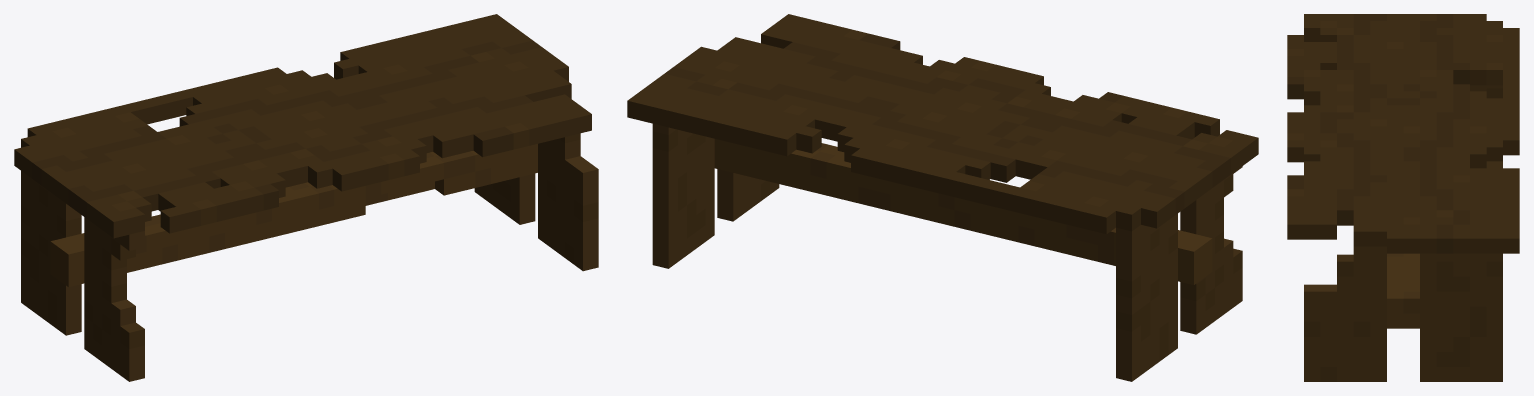
File: SkeletonLair-2.obj
3 views of the same model, side by side, from view 1: azimuth 30°, elevation 25°; view 2: azimuth 150°, elevation 25°; view 3: azimuth 270°, elevation 25° (orthographic). The views are drawn at different scales.
Size of the model in its own units: 3.2 by 1 by 1.4.
1 material, 1 textured.
